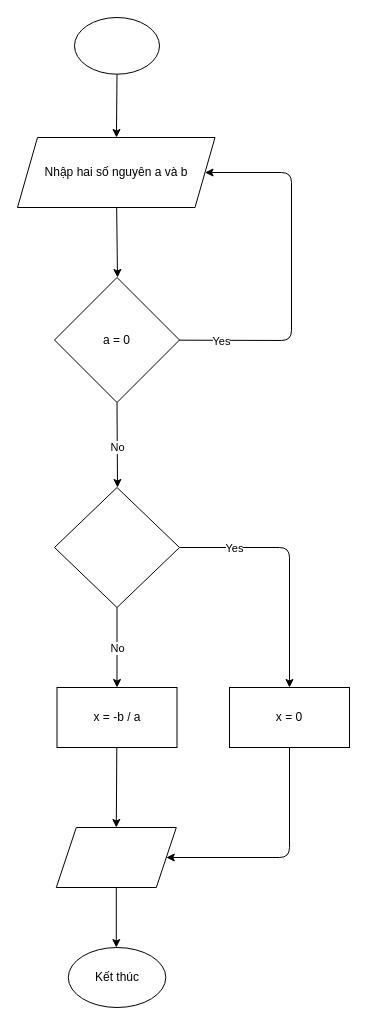
This 367x1025 diagram has some shape labels left out. Each missing label, with the centre of its shape:
"b = 0" goes at point 117,547.
"Bắt đầu" goes at point 117,45.
"Xuất giá trị x" goes at point 115,857.
